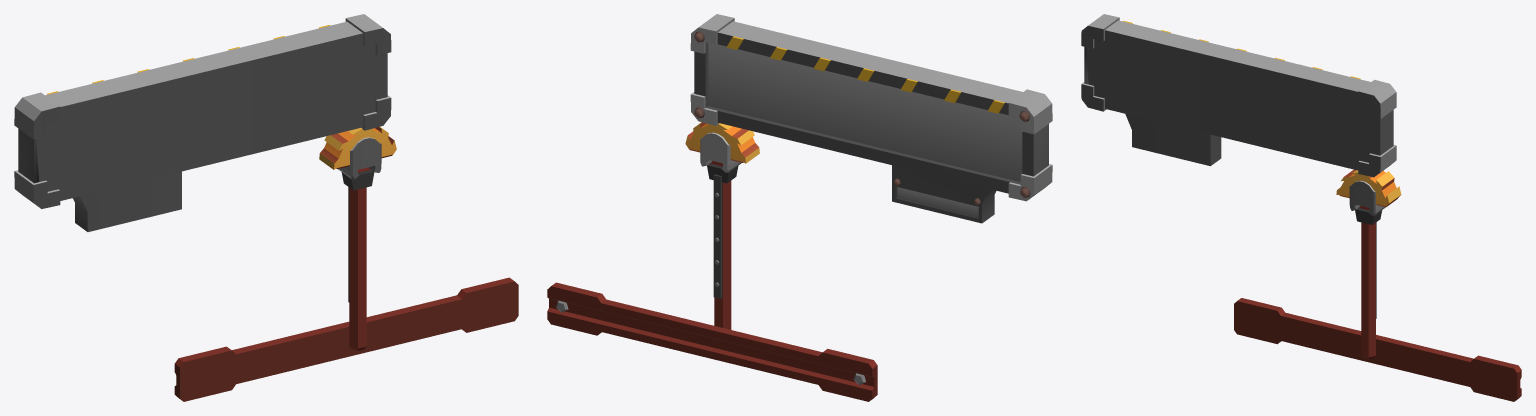
The model's file is firerate_t1_a3.fbx.
3 renders of one model, left to right at view 1: azimuth 30°, elevation 25°; view 2: azimuth 150°, elevation 25°; view 3: azimuth 330°, elevation 25°, orthographic. The views are drawn at different scales.
Parts seen in each view (by area): view 1: broad_t1_a3, firerate_t1_a3_m_lock, firerate_t1_a3_m; view 2: broad_t1_a3, firerate_t1_a3_m_lock, firerate_t1_a3_m; view 3: broad_t1_a3, firerate_t1_a3_m_lock, firerate_t1_a3_m.
Part boxes in pixels (x1,y1,x2,y2): broad_t1_a3: [14, 14, 391, 231]; firerate_t1_a3_m_lock: [174, 277, 518, 401]; firerate_t1_a3_m: [319, 127, 396, 350]; broad_t1_a3: [690, 14, 1052, 223]; firerate_t1_a3_m_lock: [547, 282, 877, 401]; firerate_t1_a3_m: [685, 122, 759, 329]; broad_t1_a3: [1081, 14, 1396, 177]; firerate_t1_a3_m_lock: [1234, 298, 1521, 401]; firerate_t1_a3_m: [1336, 169, 1401, 359].
Bounding box in the file's own units: 8.11 × 5.29 × 0.651.
